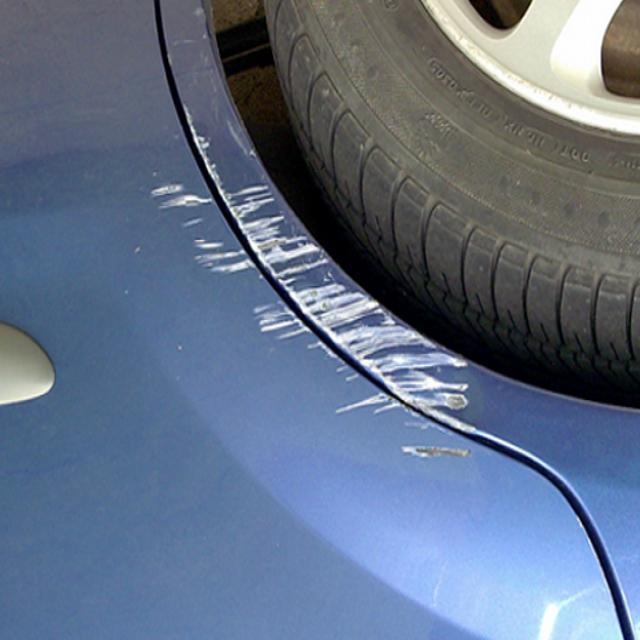scratch: (140, 131, 478, 477)
